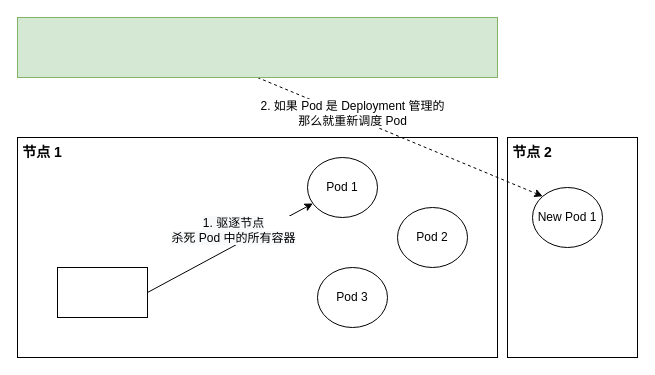
This 655x375 diagram has some shape labels left out. The shapes that lost their labels are listed below. From the top down, each one's box as (x1, y1, x2, y2) in pixels, then its label:
(16, 16, 498, 78): Kubernetes Control Panel
(56, 266, 148, 318): kubelet
